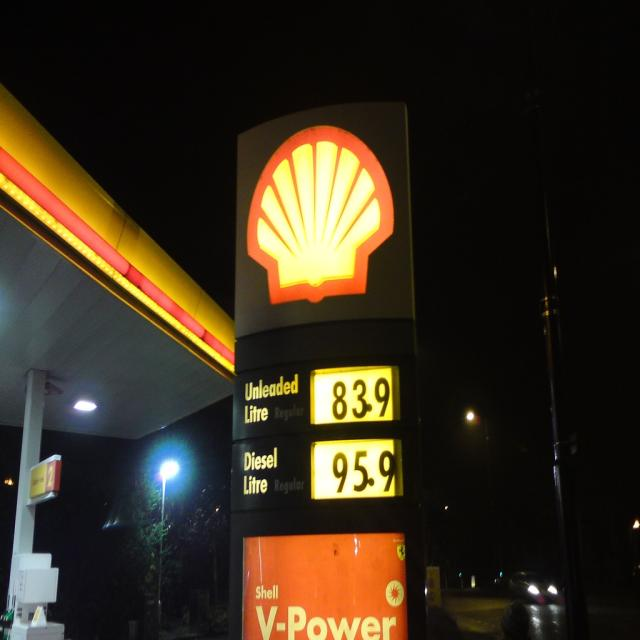shell: (247, 123, 398, 307)
